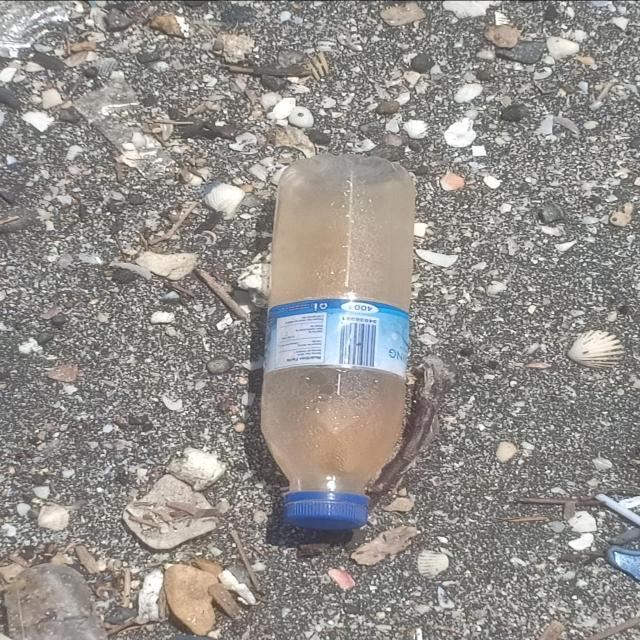plastic_waste: (262, 152, 416, 531)
